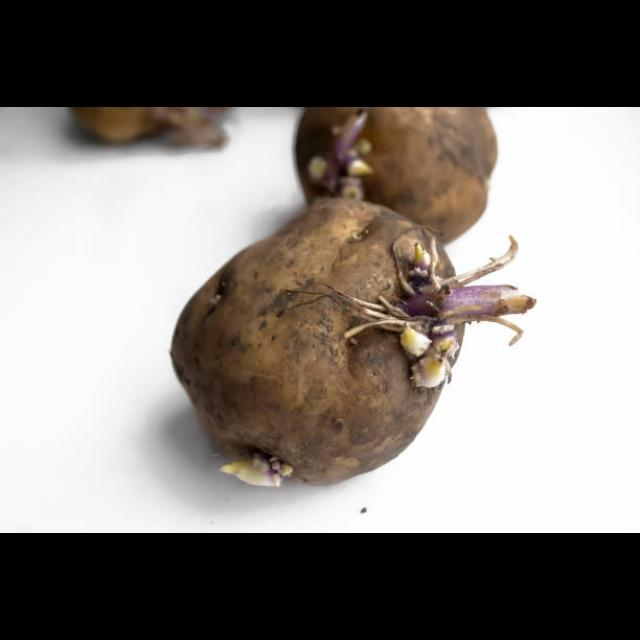Sprouted potato: (160, 165, 510, 500), (271, 107, 515, 261)
